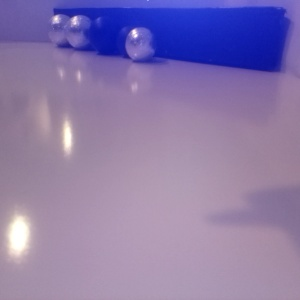dead_ball: (51, 99, 300, 300)
